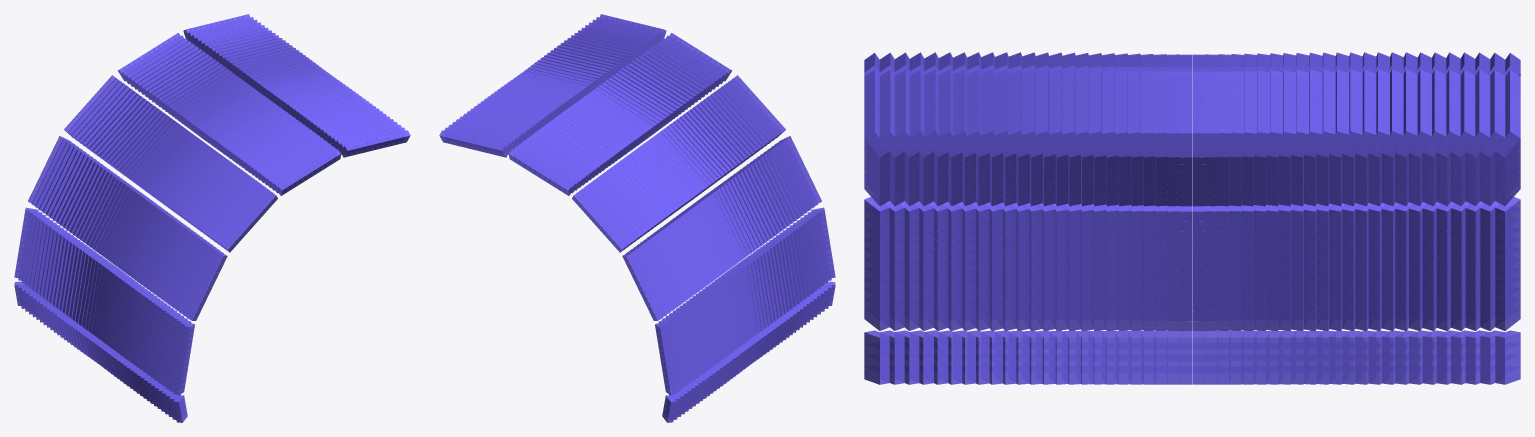
File: EMCal_Dcal.glb
3 views of the same model, side by side, from view 1: azimuth 30°, elevation 25°; view 2: azimuth 150°, elevation 25°; view 3: azimuth 270°, elevation 25° (orthographic). The views are drawn at different scales.
Bounding box in the file's own units: 535 × 514 × 647.
